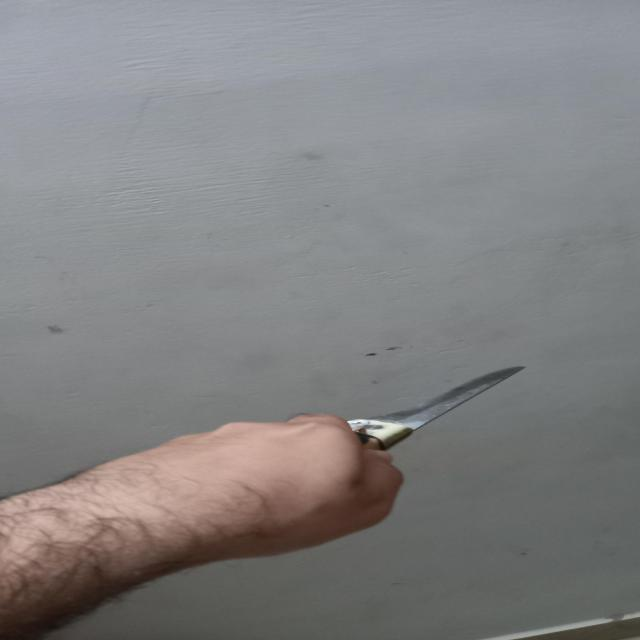Knife: (344, 365, 530, 450)
Person: (0, 413, 404, 640)
